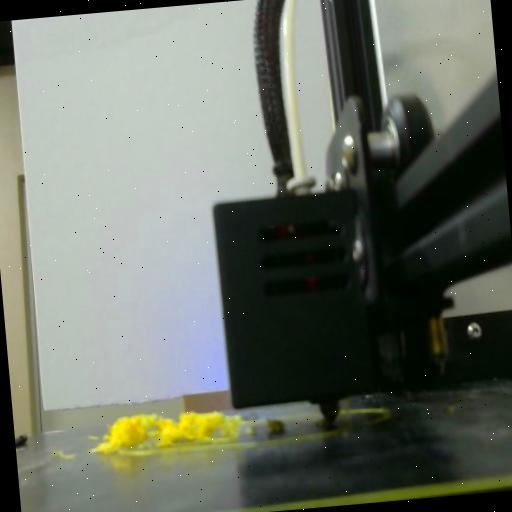spaghetti: (84, 390, 250, 478)
